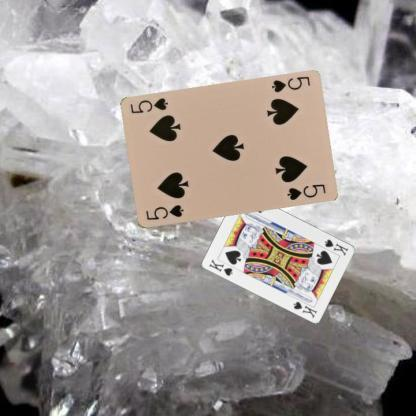5s: (142, 202, 184, 222), (269, 74, 311, 94)
Ks: (322, 236, 350, 257), (206, 256, 235, 276)
